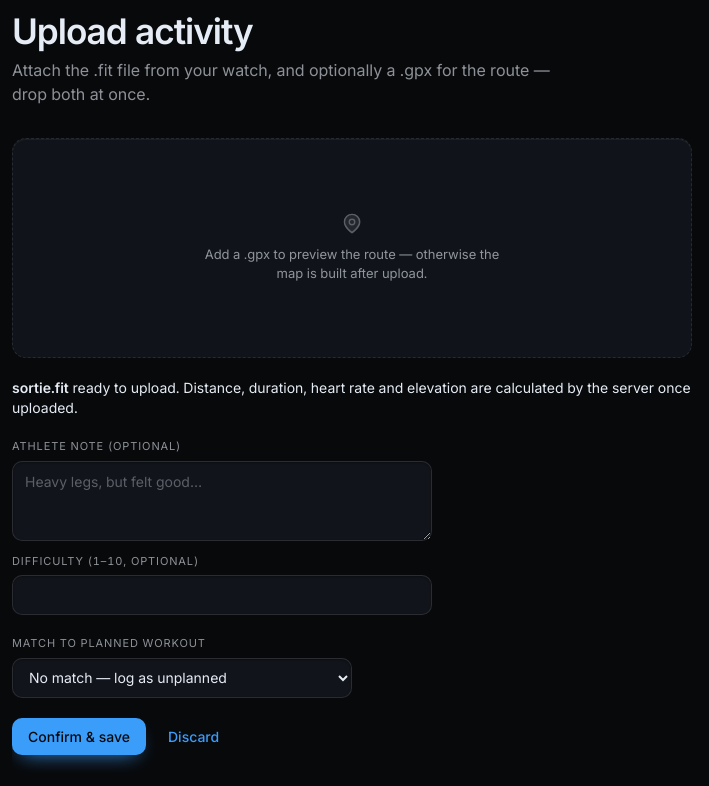
Test: UploadView — envoi › T10 — signale le doublon (409) sans proposer de réessayer
Earlier steps of the test are not shown.
Click the button "Confirm & save" at (79, 736), box x1=12 y1=718 x2=146 y2=755
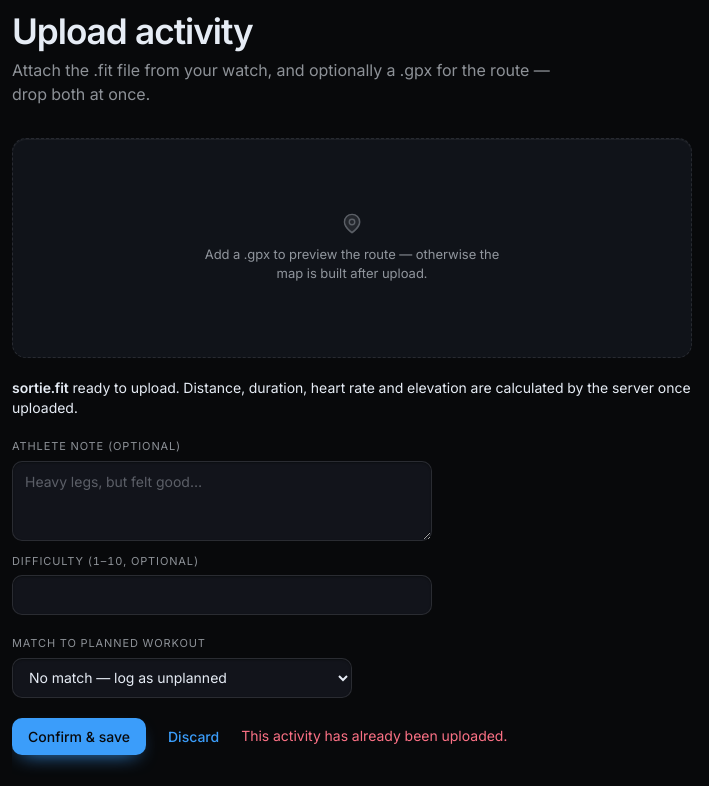
Now the text "This activity has already been uploaded." is shown, box x1=241 y1=726 x2=507 y2=746
